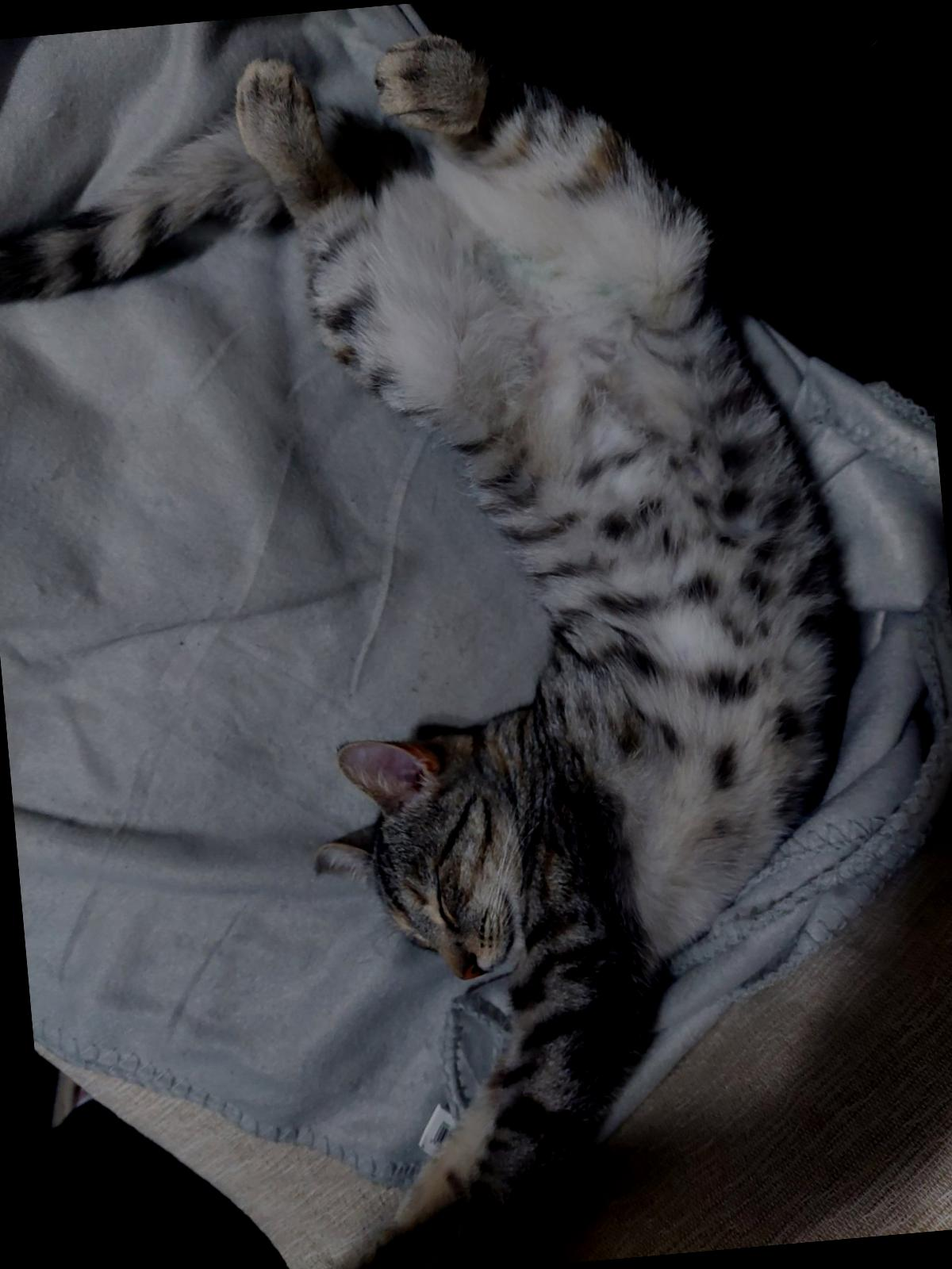macka: (0, 5, 901, 1269)
